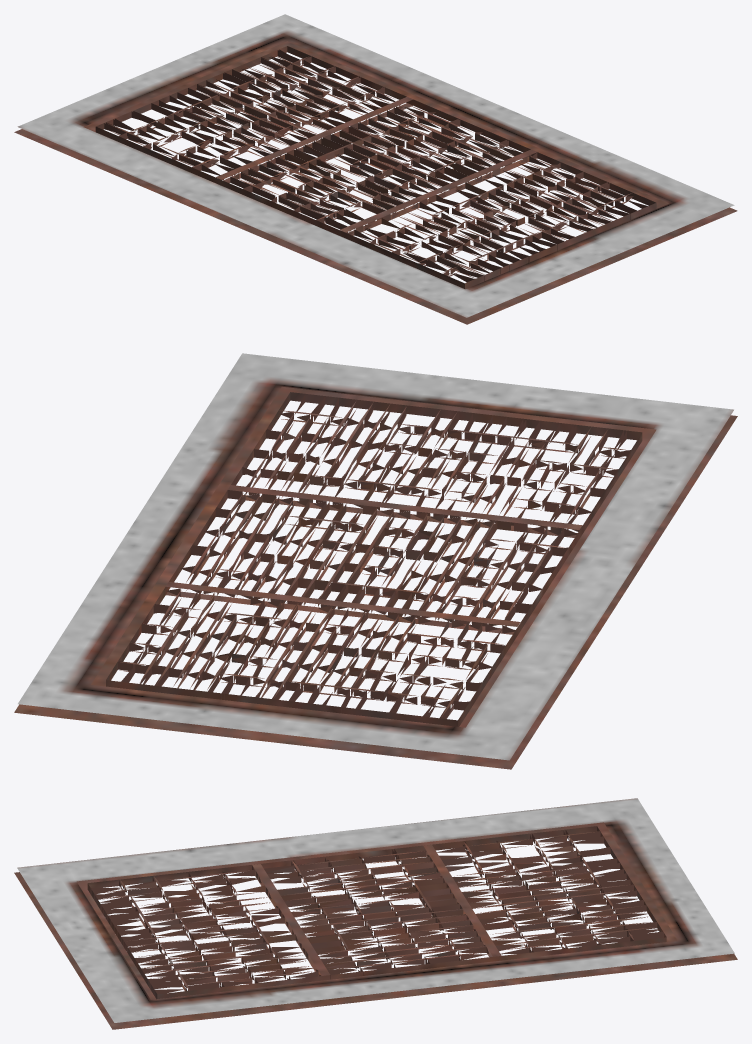
File: tj_tree_grate.fbx
3 views of the same model, one above another, from view 1: azimuth 30°, elevation 25°; view 2: azimuth 150°, elevation 25°; view 3: azimuth 270°, elevation 25° (orthographic). The views are drawn at different scales.
Parts seen in each view (by area): view 1: tj_tree_grate_LOD0; view 2: tj_tree_grate_LOD0; view 3: tj_tree_grate_LOD0.
Part boxes in pixels (box(x1,y1,x2,y2)): tj_tree_grate_LOD0: box(14, 14, 737, 324); tj_tree_grate_LOD0: box(14, 353, 737, 769); tj_tree_grate_LOD0: box(14, 798, 737, 1029).
Size of what is drawn, in the model's own units: 2.02 by 0.0266 by 2.73.
1 material, 1 textured.
